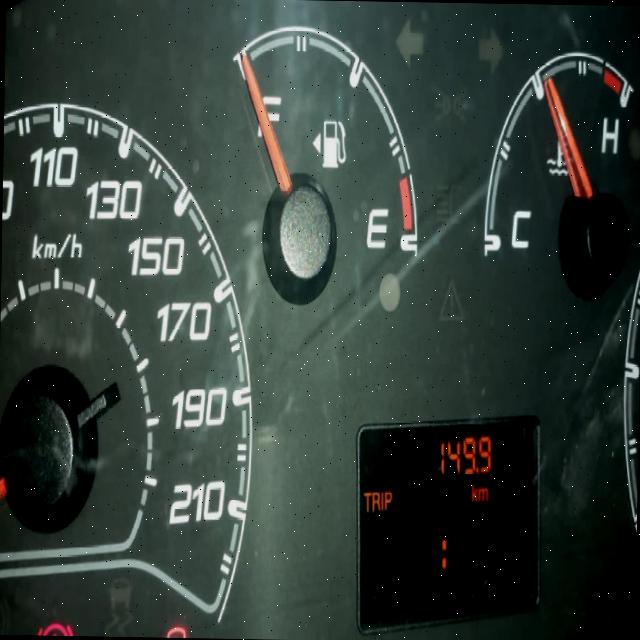odometer: (349, 406, 549, 632)
